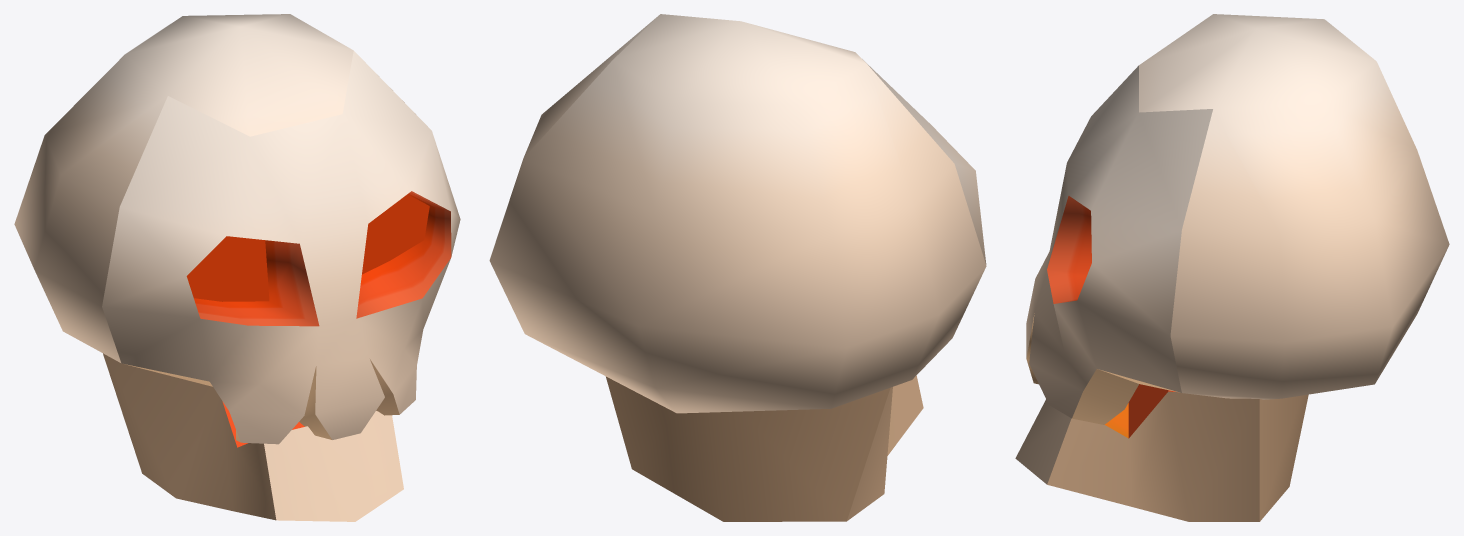
Rendered from Skull_1.FBX.
3 renders of one model, left to right at view 1: azimuth 30°, elevation 25°; view 2: azimuth 150°, elevation 25°; view 3: azimuth 270°, elevation 25°, orthographic. The views are drawn at different scales.
Parts seen in each view (by area): view 1: Skull_2; view 2: Skull_2; view 3: Skull_2.
Part boxes in pixels (x1,y1,x2,y2): Skull_2: [14, 14, 460, 521]; Skull_2: [489, 14, 986, 521]; Skull_2: [1015, 14, 1449, 521].
Size of the model in its own units: 0.6421 by 0.6992 by 0.6009.
